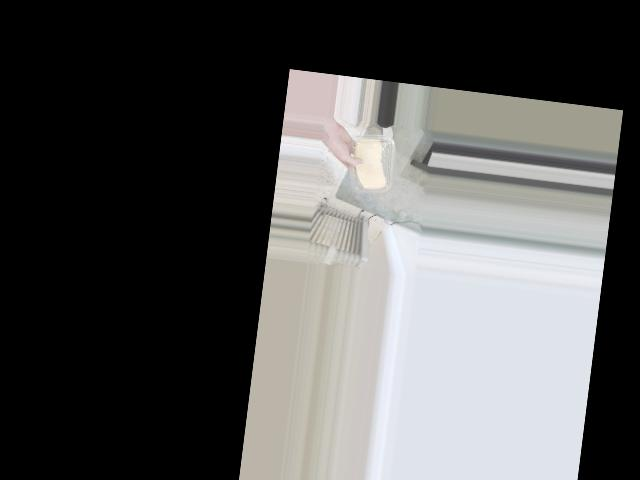cheese: (344, 132, 396, 198)
